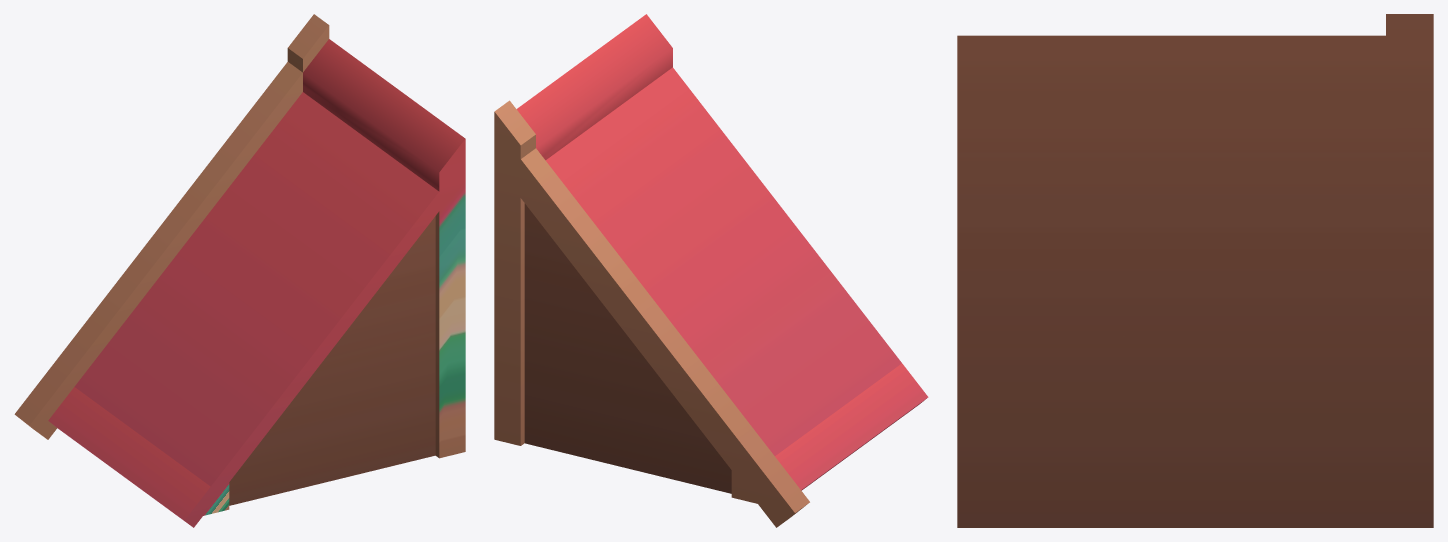
The model's file is roof-high-left.glb.
3 renders of one model, left to right at view 1: azimuth 30°, elevation 25°; view 2: azimuth 150°, elevation 25°; view 3: azimuth 270°, elevation 25°, orthographic. The views are drawn at different scales.
Parts seen in each view (by area): view 1: roof-high-left; view 2: roof-high-left; view 3: roof-high-left.
Part boxes in pixels (bbox=[...]): roof-high-left: bbox=[14, 14, 465, 527]; roof-high-left: bbox=[494, 14, 928, 527]; roof-high-left: bbox=[957, 14, 1433, 527].
Bounding box in the file's own units: 1.14 × 1.26 × 1.
Materials: 1 (1 with a texture image).
